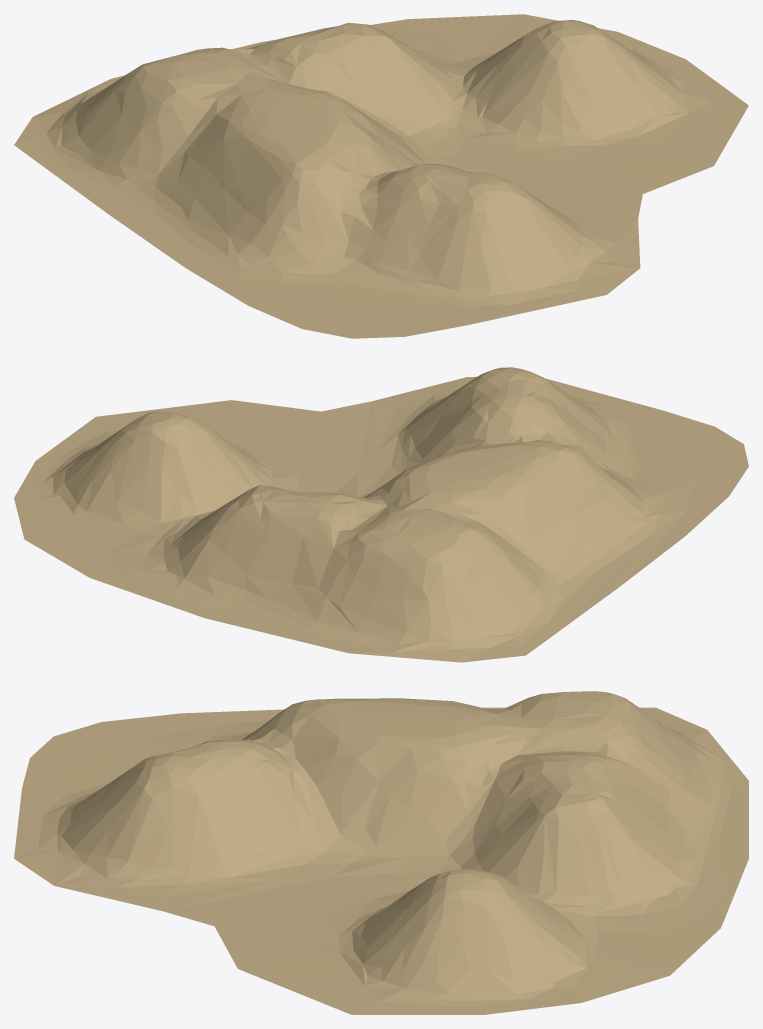
File: SM_Env_Beach_03.glb
3 views of the same model, one above another, from view 1: azimuth 30°, elevation 25°; view 2: azimuth 150°, elevation 25°; view 3: azimuth 270°, elevation 25° (orthographic). The views are drawn at different scales.
Visible parts, largest first — view 1: SM_Env_Beach_03_part00; view 2: SM_Env_Beach_03_part00; view 3: SM_Env_Beach_03_part00.
Part boxes in pixels (x1,y1,x2,y2): SM_Env_Beach_03_part00: [14, 14, 748, 338]; SM_Env_Beach_03_part00: [14, 367, 748, 662]; SM_Env_Beach_03_part00: [14, 691, 748, 1014].
Bounding box in the file's own units: 32.08 × 3.69 × 32.44.
1 material, 1 textured.
